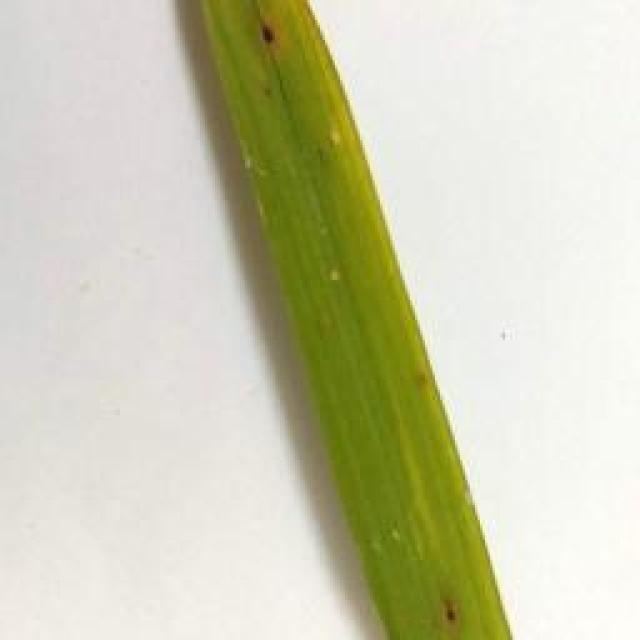Brown_Spot: (432, 592, 466, 634), (254, 21, 284, 53), (417, 364, 438, 389)
